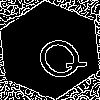Q: (25, 25, 90, 87)
